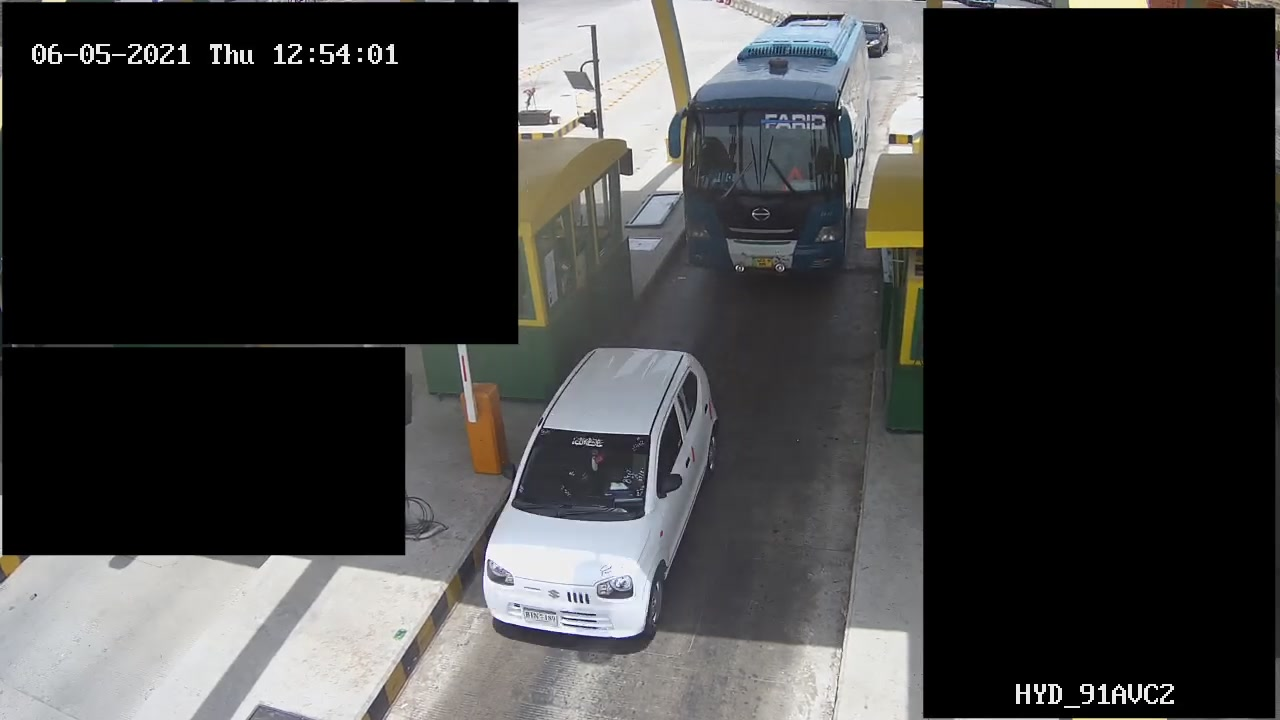F4: (672, 4, 880, 282)
